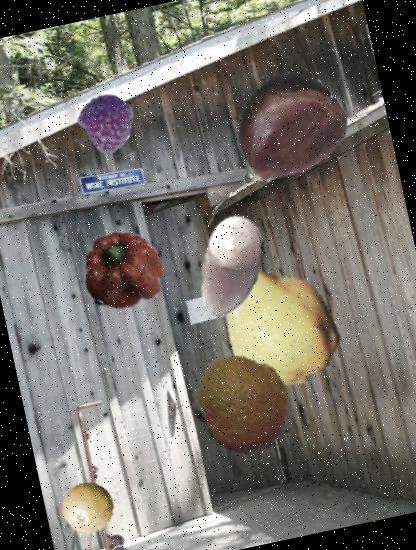Chestnut: (220, 61, 354, 195)
Grapefruit: (57, 476, 121, 540)
Hazelnut: (168, 204, 294, 330)
Mandarine: (182, 341, 305, 464)
Pepper: (72, 223, 173, 324)
Quince: (199, 247, 359, 407)
Raspberry: (74, 90, 139, 155)
